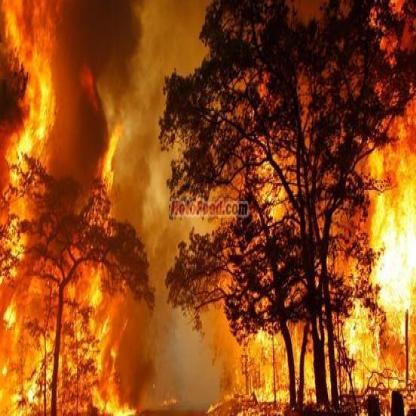fire: (0, 0, 150, 412), (204, 114, 413, 406)
